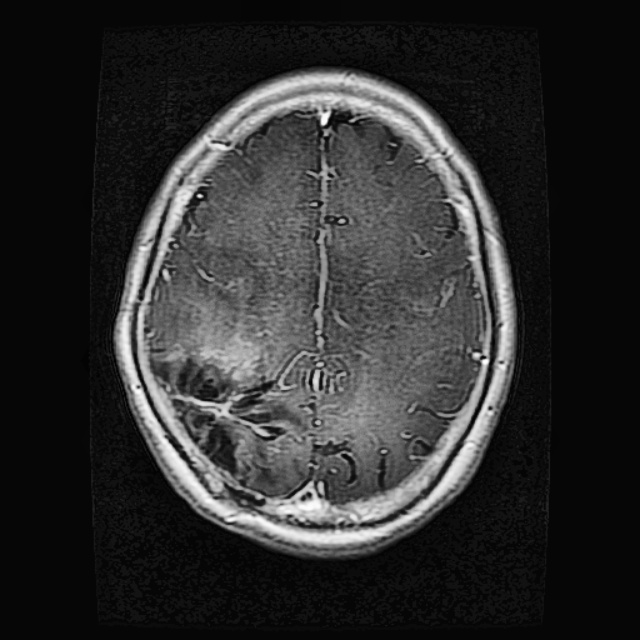Glioma: (152, 348, 288, 480)
